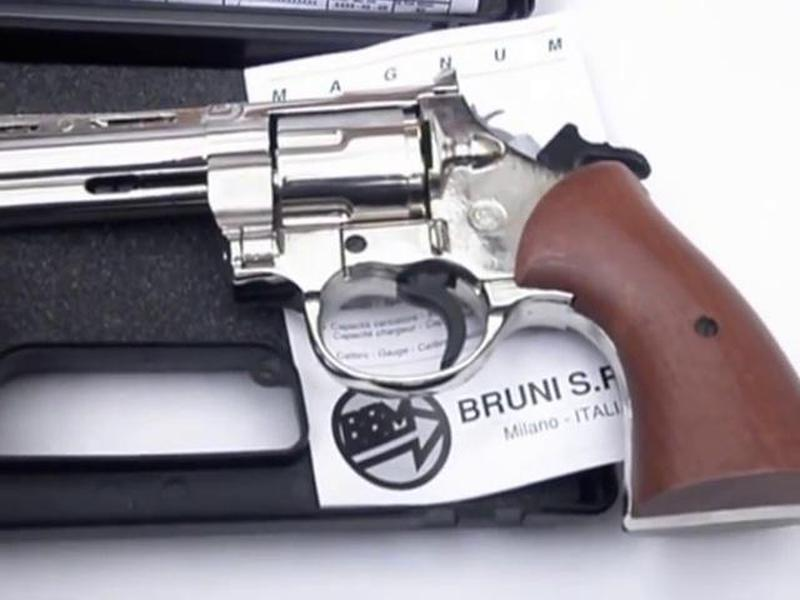Revolver: (21, 54, 777, 500)
